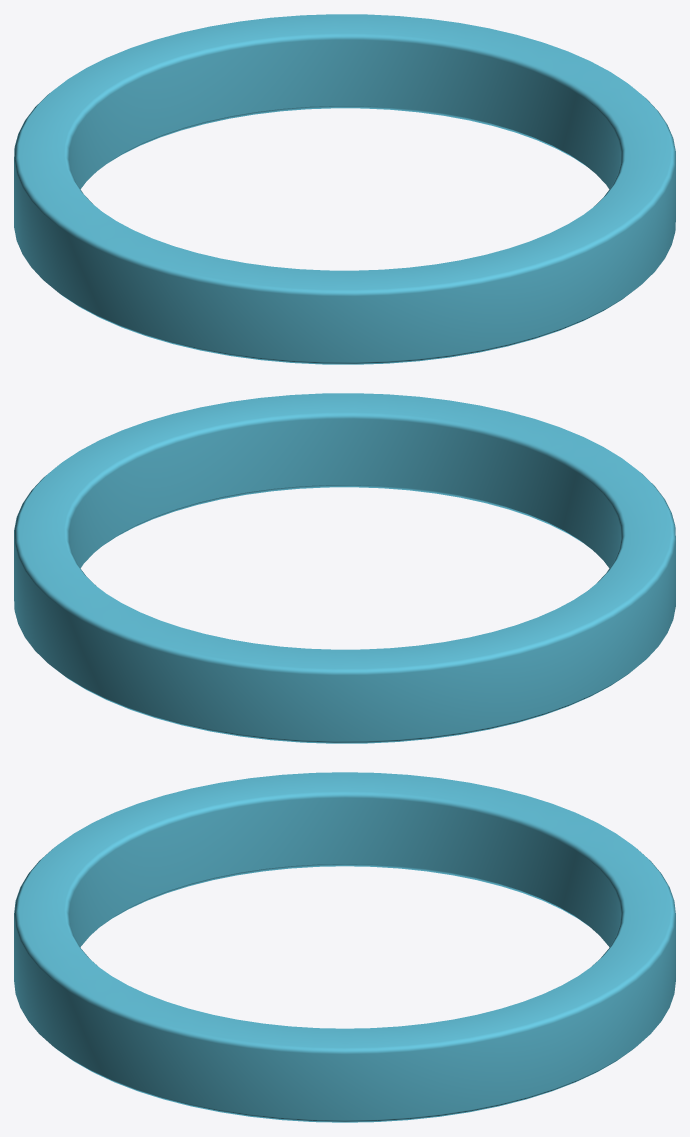
3 renders of one model, top to bottom at view 1: azimuth 30°, elevation 25°; view 2: azimuth 150°, elevation 25°; view 3: azimuth 270°, elevation 25°, orthographic.
Visible parts, largest first — view 1: seal_body; view 2: seal_body; view 3: seal_body.
Part boxes in pixels (bbox=[...]): seal_body: bbox=[14, 14, 675, 364]; seal_body: bbox=[14, 393, 675, 743]; seal_body: bbox=[14, 772, 675, 1122].
Bounding box in the file's own units: 0.0762 × 0.00952 × 0.0762.
